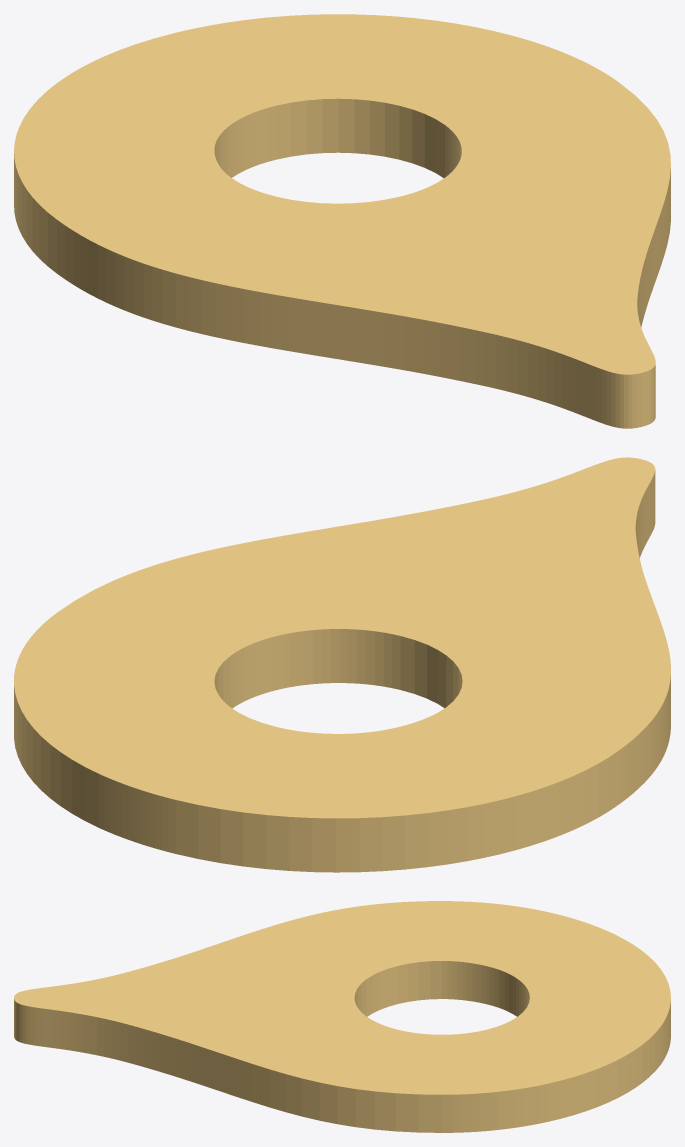
Rendered from favorite-pin.gltf.
The picture shows the model from 3 angles, top to bottom: view 1: azimuth 30°, elevation 25°; view 2: azimuth 150°, elevation 25°; view 3: azimuth 270°, elevation 25°; orthographic projection. The views are drawn at different scales.
Visible parts, largest first — view 1: Curve; view 2: Curve; view 3: Curve.
Boxes of the visible parts, box(x1,y1,x2,y2) form: Curve: box(14, 14, 670, 428); Curve: box(14, 457, 670, 872); Curve: box(14, 901, 670, 1132).
Bounding box in the file's own units: 3.86 × 0.3545 × 5.53.
